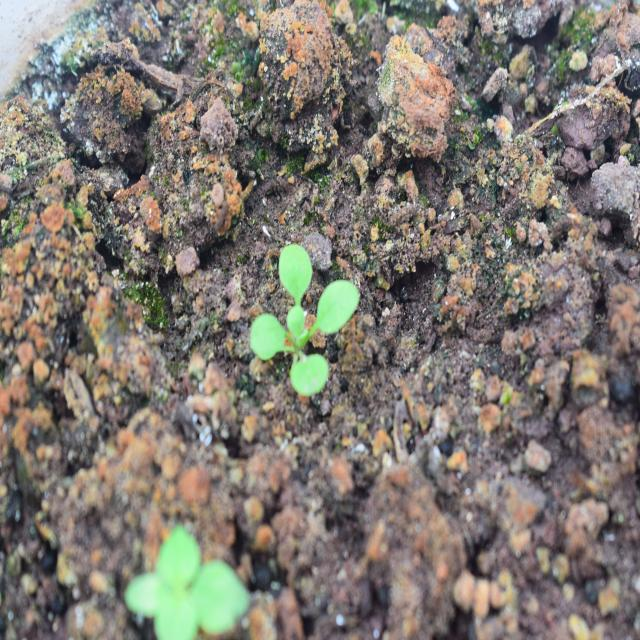Shepherd_Purse: (244, 227, 363, 393)
